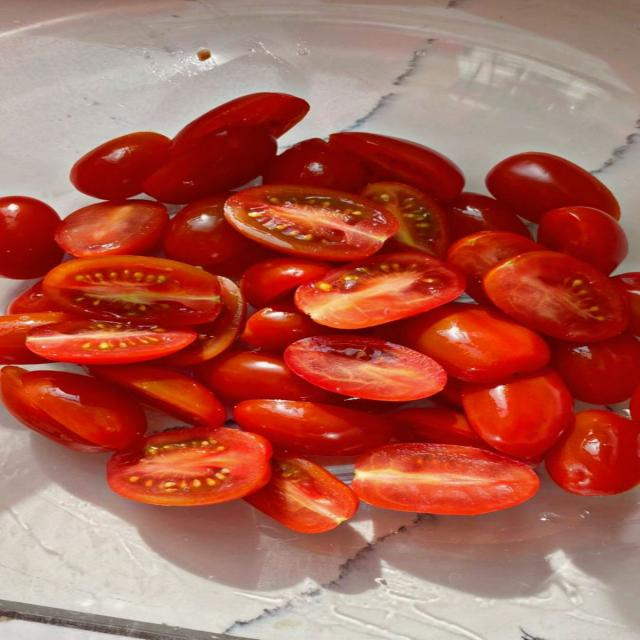sliced tomatoe: (225, 185, 399, 261), (352, 444, 539, 514), (483, 252, 629, 341), (108, 427, 271, 506), (295, 253, 464, 329), (390, 303, 549, 382), (1, 367, 146, 452), (43, 256, 220, 325), (285, 335, 446, 401), (143, 127, 276, 204), (463, 369, 572, 459), (330, 133, 464, 202), (486, 152, 620, 221), (234, 400, 392, 456), (245, 456, 359, 533), (90, 364, 226, 426), (172, 93, 309, 153), (546, 410, 639, 495), (26, 319, 196, 364), (163, 277, 246, 366), (196, 350, 331, 402), (447, 231, 544, 303), (70, 132, 170, 199), (362, 182, 450, 258), (55, 200, 168, 257), (164, 194, 252, 266), (550, 333, 639, 404), (538, 207, 628, 274), (263, 139, 366, 192), (0, 196, 63, 279), (240, 258, 331, 308), (241, 303, 327, 351), (445, 192, 530, 239), (391, 407, 488, 448), (0, 312, 73, 364), (204, 239, 280, 281), (7, 280, 62, 314), (612, 272, 639, 335), (432, 376, 471, 408), (629, 386, 639, 421)
